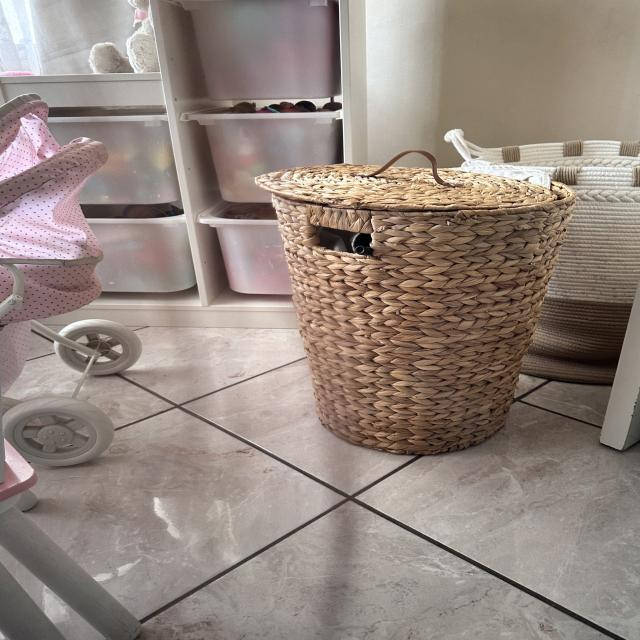hidden camera: (355, 246, 366, 255)
